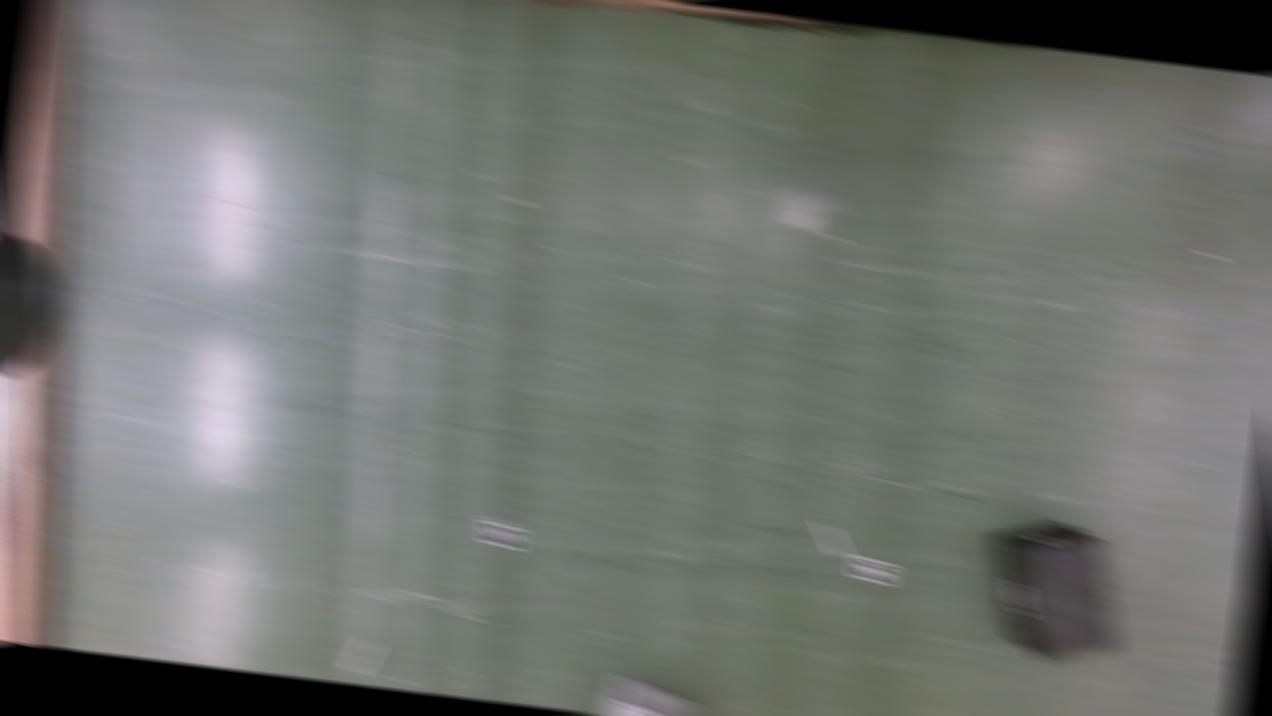probes: (815, 520, 850, 558), (346, 636, 374, 674)
rako: (978, 510, 1132, 668)
